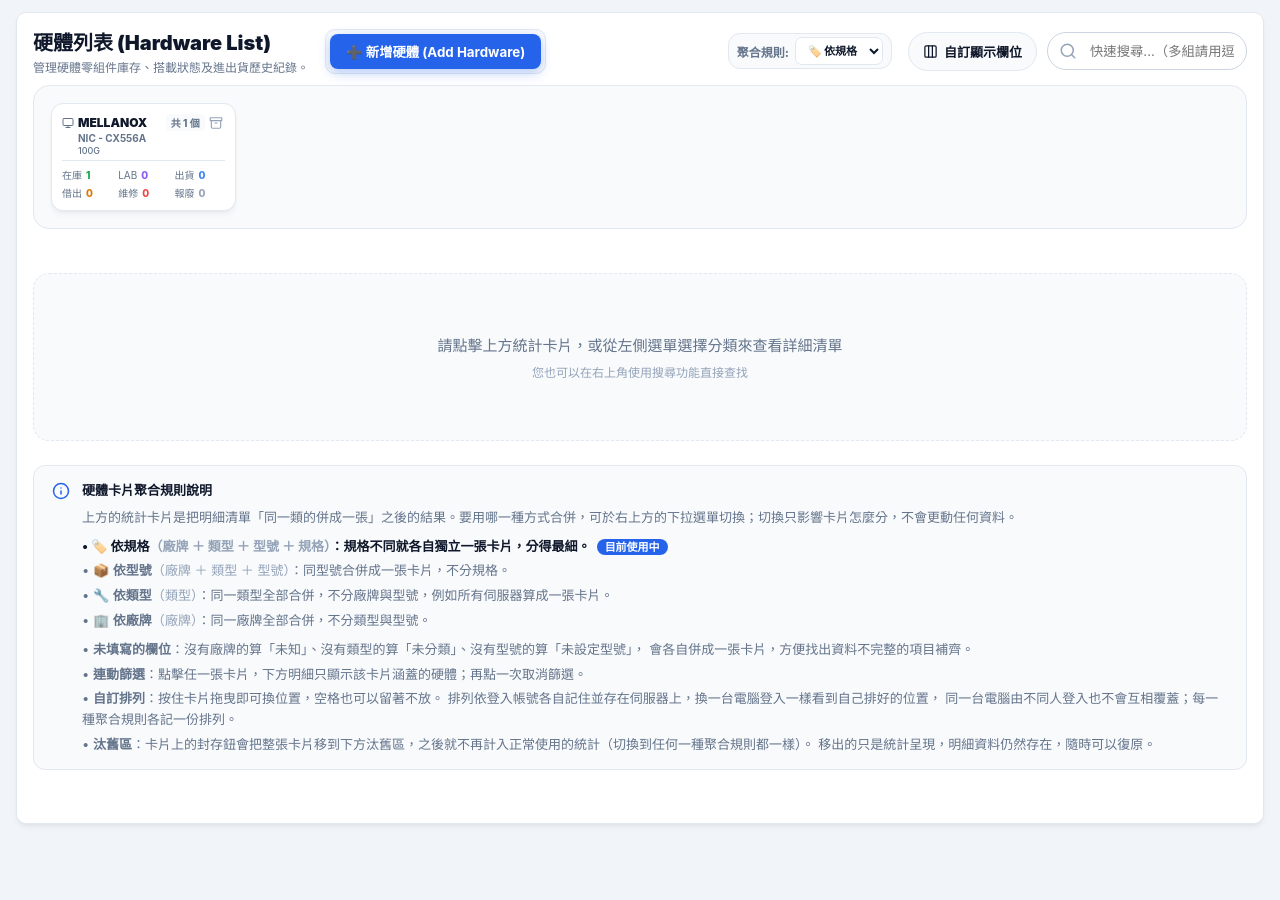
Scenario: 設備／硬體列表的欄位編排 › 硬體列表套用同一套編排
Type "HW-001" into the field with placeholder "快速搜尋...（多組請用逗號分隔）" at (1147, 51), box x1=1047 y1=32 x2=1247 y2=70
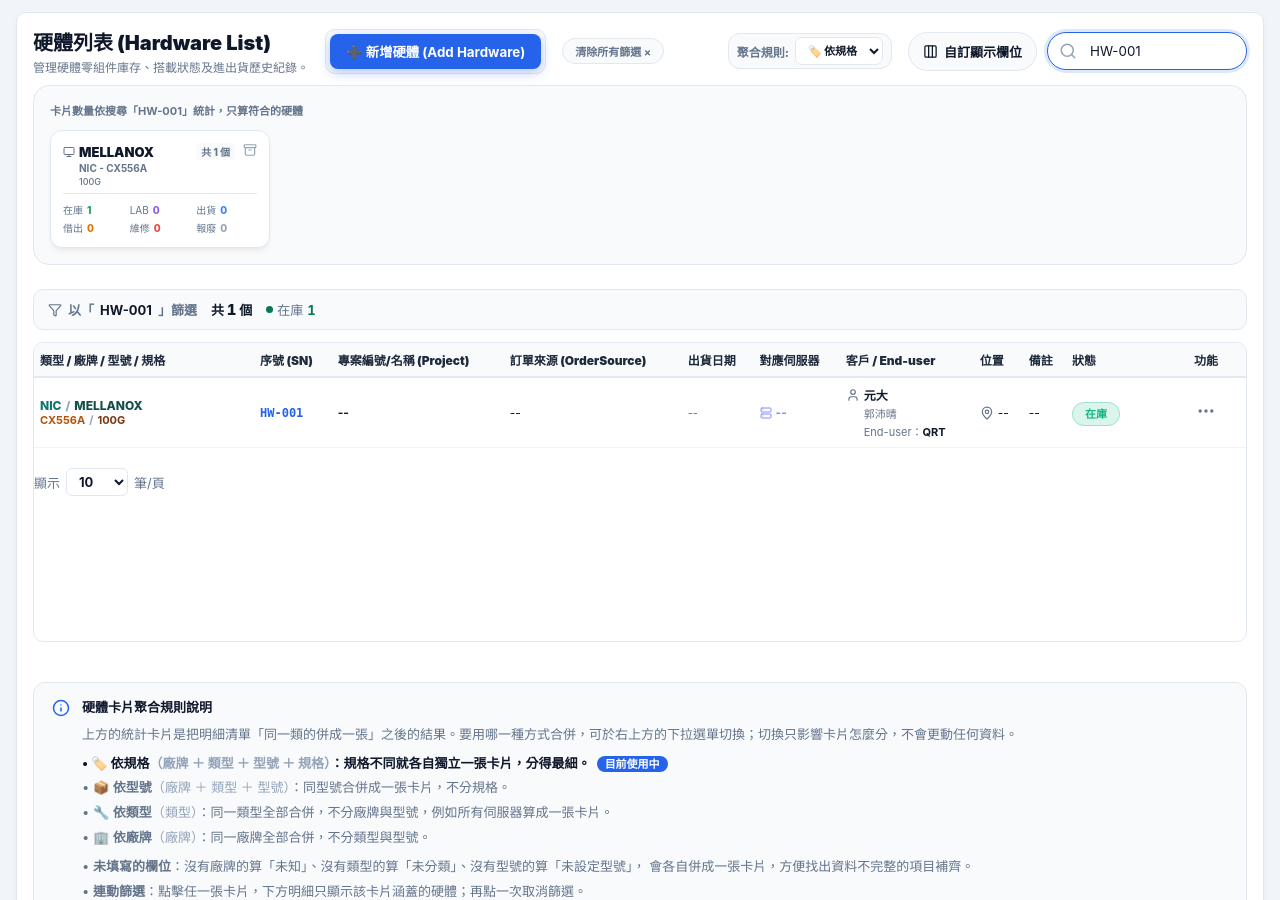
Expected: the text "HW-001" is shown, x1=100 y1=302 x2=152 y2=318
Expected: the column heading "類型 / 廠牌 / 型號 / 規格" is shown, x1=34 y1=343 x2=254 y2=377
Expected: the column heading "客戶 / End-user" is shown, x1=840 y1=343 x2=974 y2=377
